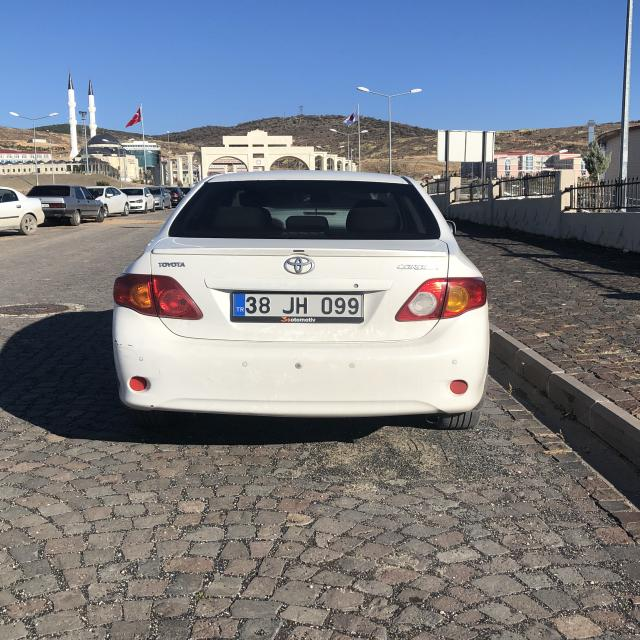license_plate: (233, 294, 363, 318)
